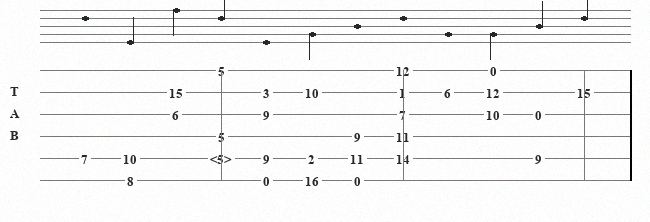0: (263, 174, 274, 187), (354, 174, 365, 187), (490, 64, 501, 77), (535, 108, 546, 121)
1: (399, 86, 410, 99)
10: (123, 152, 141, 165), (305, 86, 323, 99), (486, 108, 504, 121)
11: (350, 152, 368, 165), (396, 130, 414, 143)
12: (396, 64, 414, 77), (486, 86, 504, 99)
14: (396, 152, 414, 165)
15: (169, 86, 187, 99), (577, 86, 595, 99)
16: (305, 174, 323, 187)
2: (308, 152, 319, 165)
3: (263, 86, 274, 99)
5: (218, 64, 229, 77), (218, 130, 229, 143)
6: (172, 108, 183, 121), (444, 86, 455, 99)
7: (81, 152, 92, 165), (399, 108, 410, 121)
8: (127, 174, 138, 187)
9: (263, 108, 274, 121), (263, 152, 274, 165), (354, 130, 365, 143), (535, 152, 546, 165)
harmonic: (210, 152, 236, 165)
